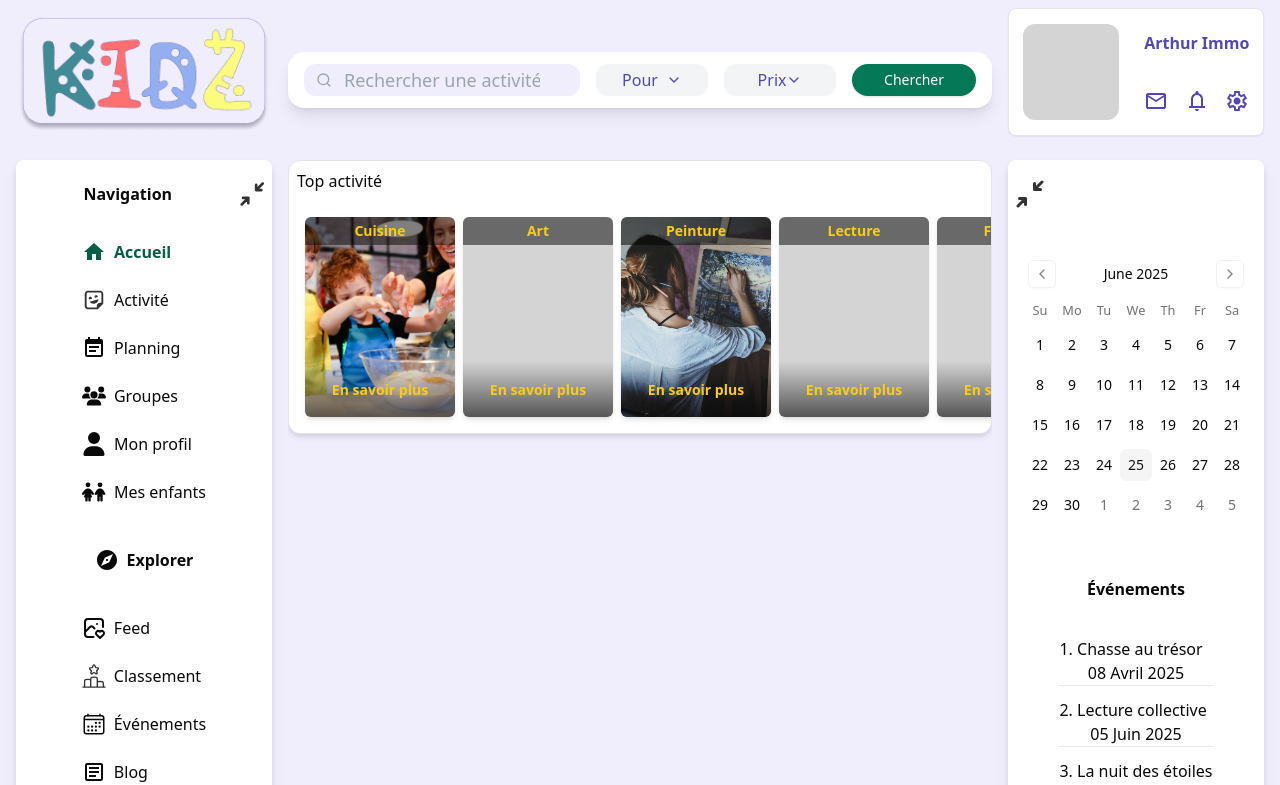
SearchBar Component › Navigation au clavier › ferme le dropdown avec Escape
Type "football" into the field with placeholder "Rechercher une activité, un utilisateur...". click: (442, 80)
box: [304,64,580,96]
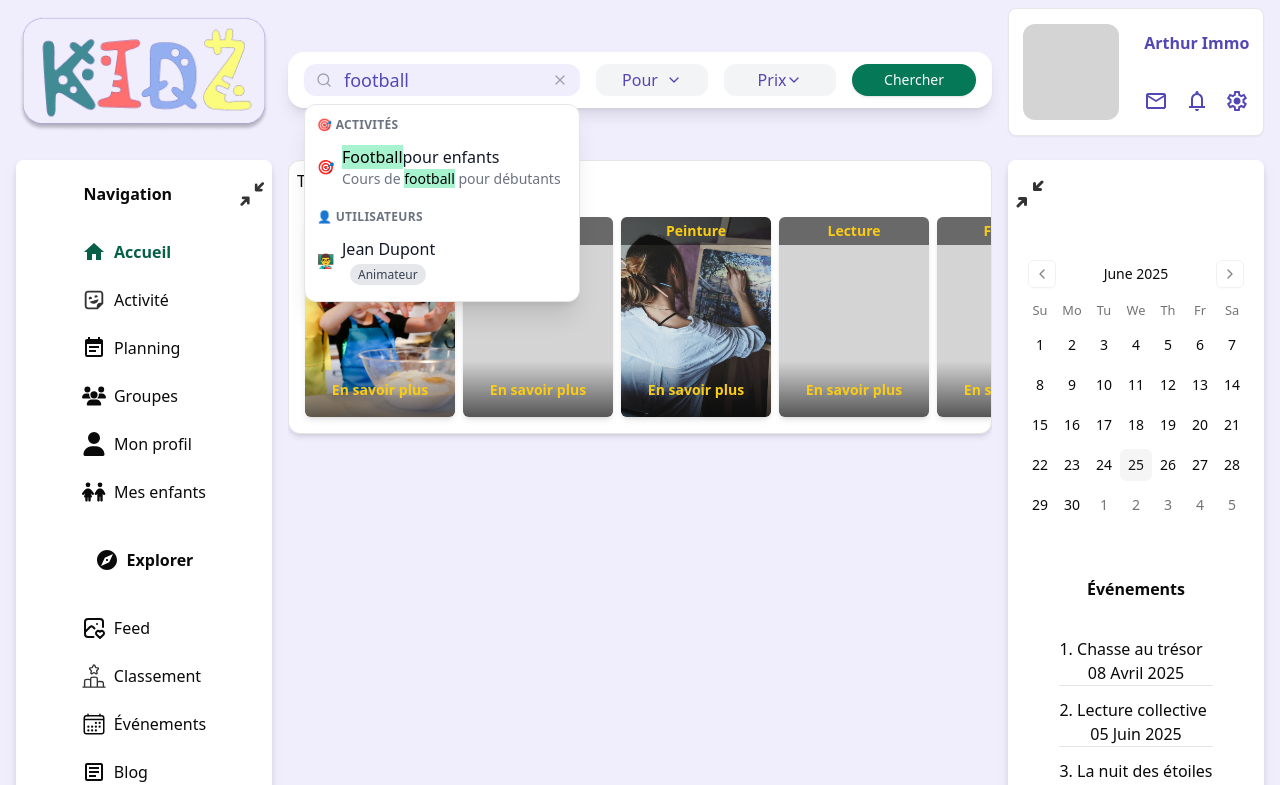
Press Esc in the field, box [304,64,580,96]
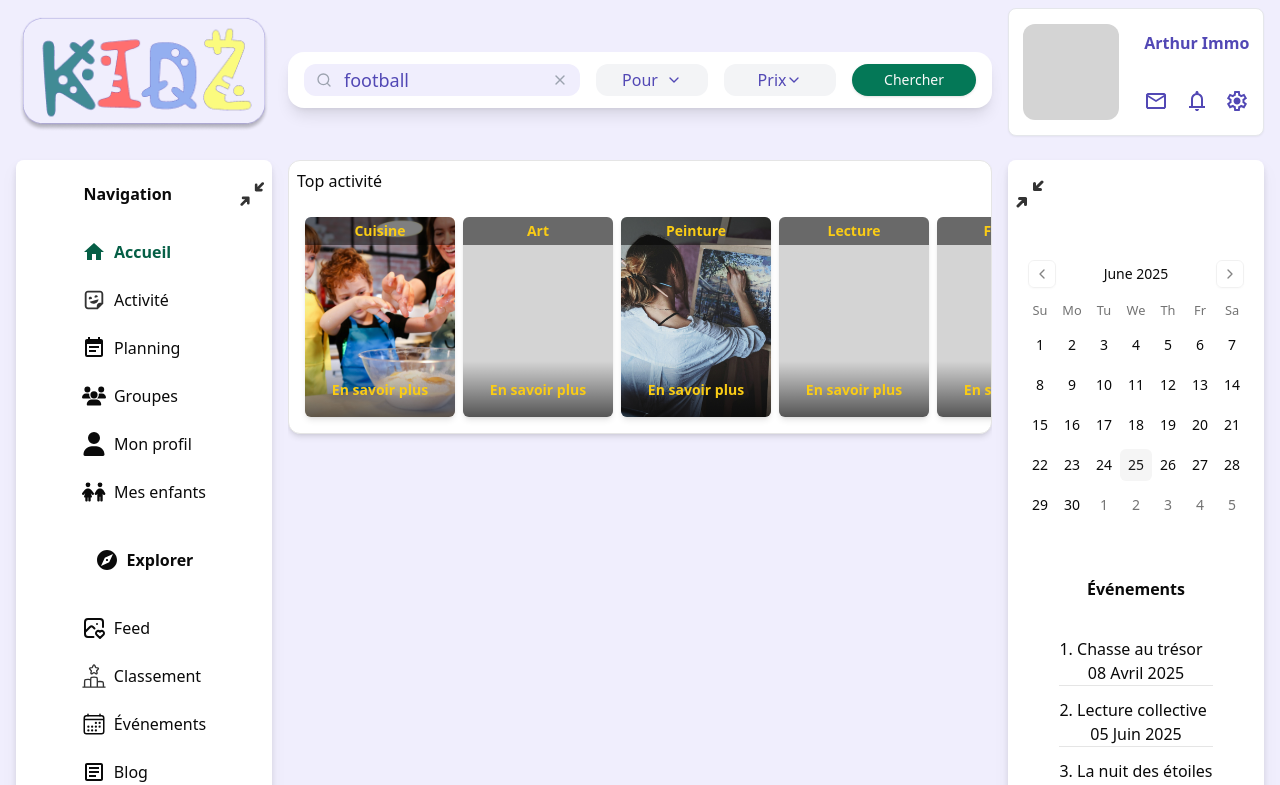
Check: the element with test id "search-dropdown" is gone
